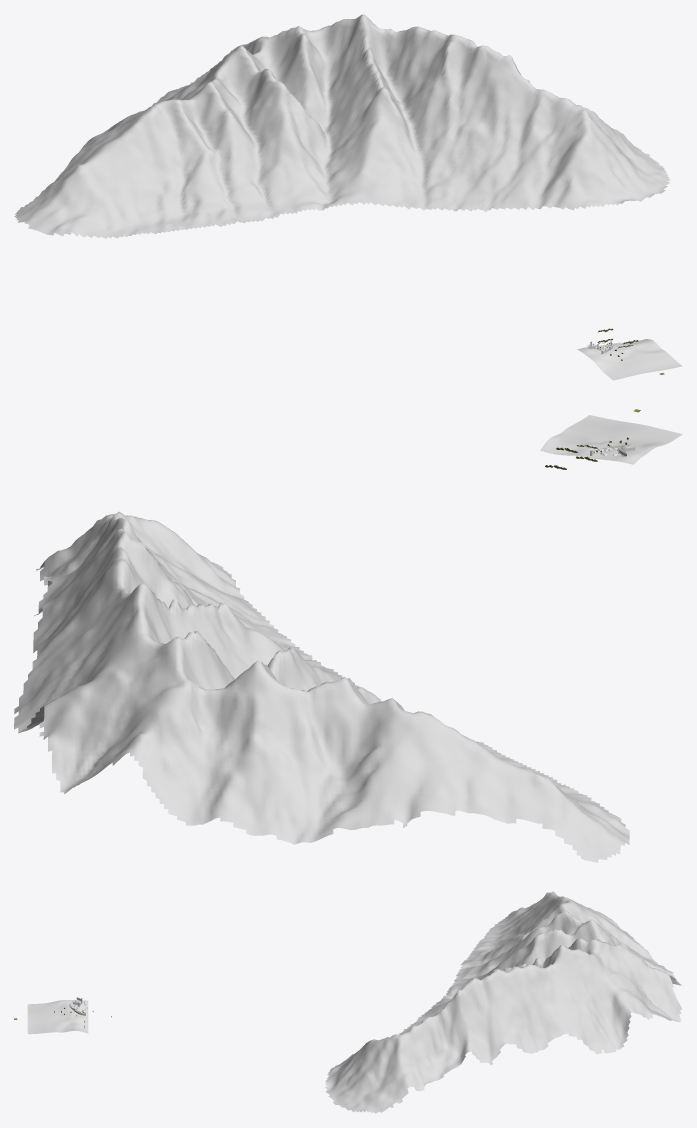
The model's file is mainscene.fbx.
3 views of the same model, one above another, from view 1: azimuth 30°, elevation 25°; view 2: azimuth 150°, elevation 25°; view 3: azimuth 270°, elevation 25° (orthographic). The views are drawn at different scales.
Parts seen in each view (by area): view 1: terrain_far, terrain_mid; view 2: terrain_far, terrain_mid; view 3: terrain_far, terrain_mid.
Part boxes in pixels (x1,y1,x2,y2): terrain_far: (14, 14, 670, 238); terrain_mid: (577, 339, 682, 380); terrain_far: (14, 512, 629, 862); terrain_mid: (540, 415, 682, 464); terrain_far: (325, 891, 682, 1113); terrain_mid: (27, 1000, 88, 1034).
Bounding box in the file's own units: 93242 × 20138 × 122605.
Materials: 13 (4 with a texture image).
